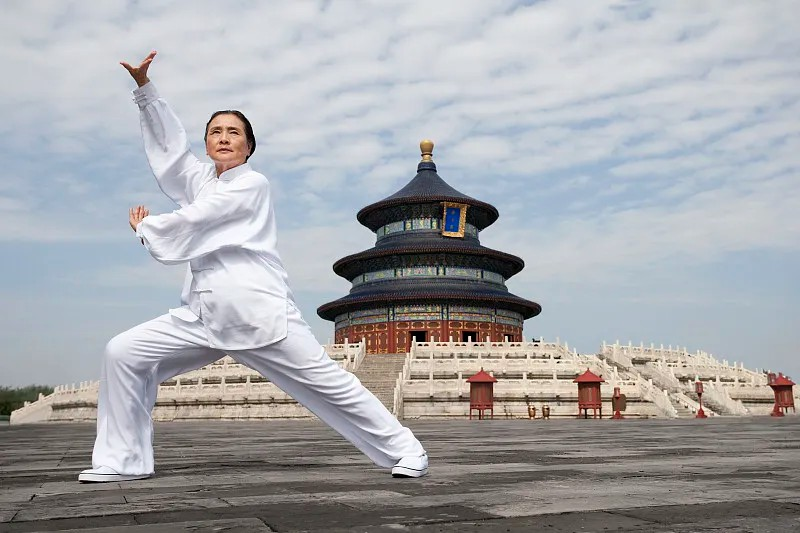Heaven: (318, 138, 543, 353)
